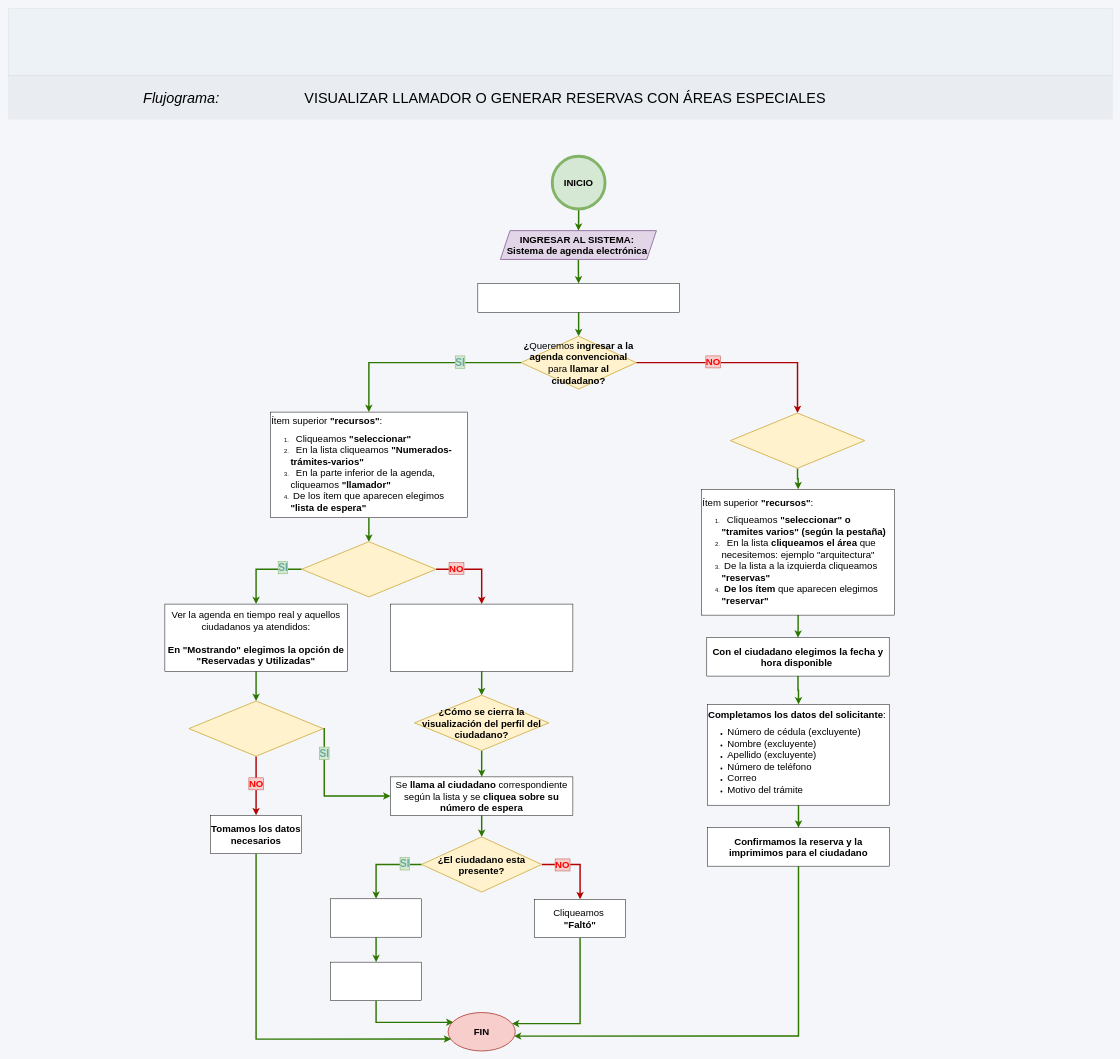
This 1120x1059 diagram has some shape labels left out. The shapes that lost their labels are listed below. From the top down, each one's centre as x and y in pixels, then its label:
the point at 578,297: En el ítem "recursos" cliqueamos "seleccionar"
the point at 797,440: ¿Se desea agendar al ciudadano con área en especial?
the point at 368,569: ¿Queremos ver la lista de ciudadanos ya atendidos ?
the point at 481,637: Ver la agenda en tiempo real: En "Mostrando" elegimos la opción de "Reservadas"
the point at 256,728: ¿Se desea volver a llamar al ciudadano?
the point at 376,917: Cliqueamos "Inicio de atención"
the point at 376,981: Cliqueamos "Fin de atención"
